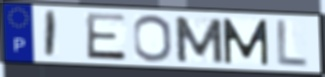E: (84, 11, 128, 62)
I: (43, 9, 59, 60)
L: (276, 18, 310, 70)
M: (172, 15, 226, 65), (221, 17, 271, 67)
O: (131, 13, 175, 64)
